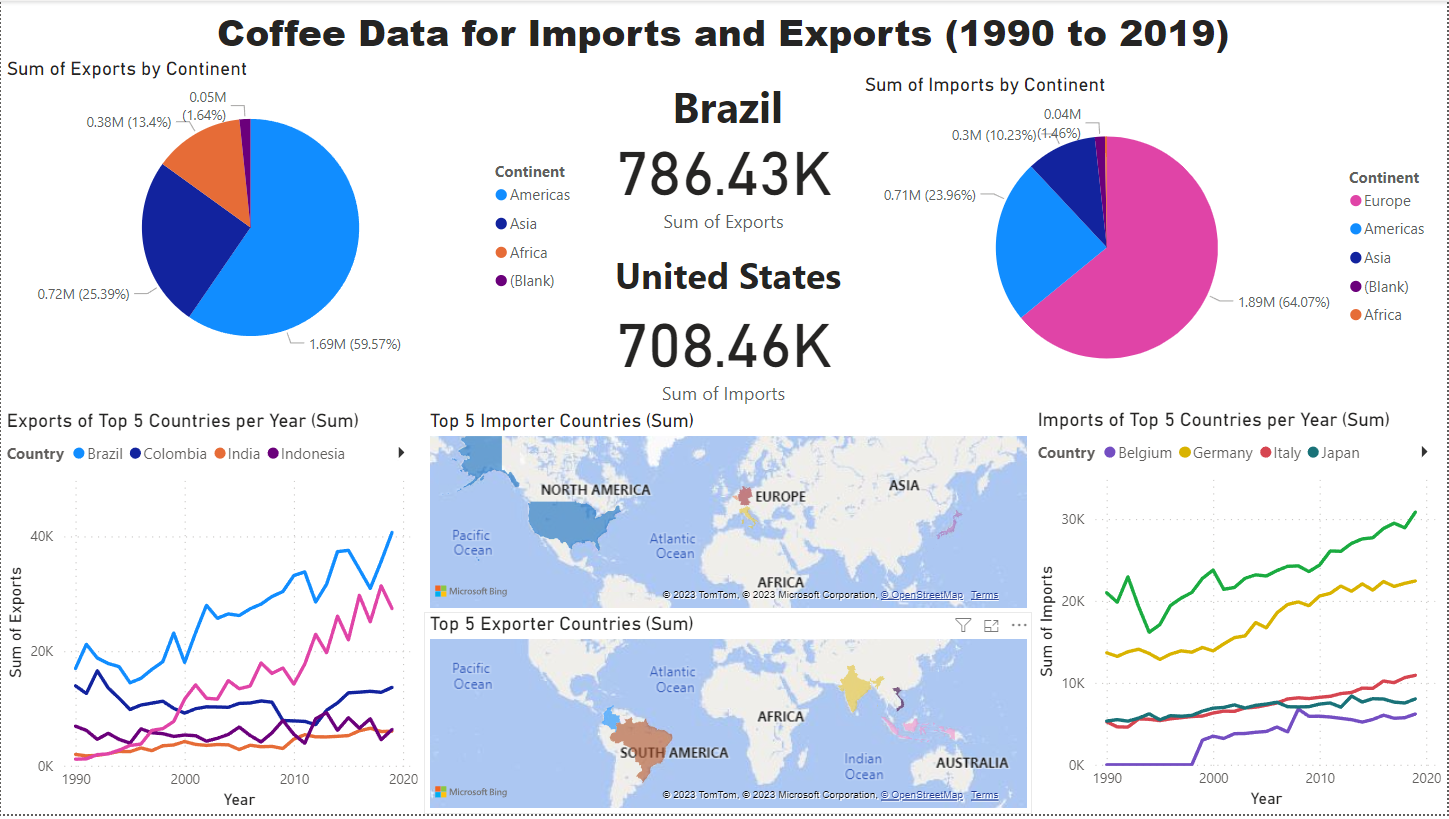

The page's visual inventory and layout, read from the dashboard file:
{"tool":"powerbi","page":{"name":"Coffee Data","canvas":[1280,720],"ordinal":0},"visuals":[{"type":"textbox","box":[9.4,0,1270.6,75.3],"z":0},{"type":"pieChart","fields":{"Y":["Sum(Exports & Imports Appended Query.Exports)"],"Category":["Continents_Sheet_Final_CSV.Continent"]},"box":[0,50,523.3,283.3],"z":1000},{"type":"pieChart","fields":{"Y":["Sum(Exports & Imports Appended Query.Imports)"],"Category":["Continents_Sheet_Final_CSV.Continent"]},"box":[760,63.3,520,290],"z":2000},{"type":"card","fields":{"Values":["Sum(Exports & Imports Appended Query.Exports)"]},"box":[519.5,75.7,240,161.1],"z":3000},{"type":"card","fields":{"Values":["Sum(Exports & Imports Appended Query.Imports)"]},"box":[519.5,236.8,240,145.1],"z":4000},{"type":"textbox","box":[574.9,62.9,137.6,64],"z":5000},{"type":"textbox","box":[523.7,215.5,241.1,59.7],"z":6000},{"type":"filledMap","title":"Top 5 Importer Countries (Sum)","fields":{"Category":["Exports & Imports Appended Query.Country"]},"box":[374.4,361.1,538.9,181.1],"z":7000},{"type":"filledMap","title":"Top 5 Exporter Countries (Sum)","fields":{"Category":["Exports & Imports Appended Query.Country"]},"box":[374.4,541.1,538.9,178.9],"z":8000},{"type":"lineChart","title":"Exports of Top 5 Countries per Year (Sum)","fields":{"Category":["Exports & Imports Appended Query.Year"],"Y":["Sum(Exports & Imports Appended Query.Exports)"],"Series":["Exports & Imports Appended Query.Country"]},"box":[0,361.1,374.4,358.9],"z":9000},{"type":"lineChart","title":"Imports of Top 5 Countries per Year (Sum)","fields":{"Category":["Exports & Imports Appended Query.Year"],"Y":["Sum(Exports & Imports Appended Query.Imports)"],"Series":["Exports & Imports Appended Query.Country"]},"box":[913.3,360,366.7,358.9],"z":10000}]}

Visuals, with their boxes in screenshot pixels (x1, y1, x2, y2), scaled from the page's 1280x720 canvas onto the 1449x819 screenshot:
textbox: box(11, 0, 1448, 86)
pieChart - Sum(Exports & Imports Appended Query.Exports) x Continents_Sheet_Final_CSV.Continent: box(0, 57, 592, 379)
pieChart - Sum(Exports & Imports Appended Query.Imports) x Continents_Sheet_Final_CSV.Continent: box(860, 72, 1448, 402)
card - Sum(Exports & Imports Appended Query.Exports): box(588, 86, 860, 269)
card - Sum(Exports & Imports Appended Query.Imports): box(588, 269, 860, 434)
textbox: box(651, 72, 807, 144)
textbox: box(593, 245, 866, 313)
"Top 5 Importer Countries (Sum)" filledMap: box(424, 411, 1034, 617)
"Top 5 Exporter Countries (Sum)" filledMap: box(424, 616, 1034, 818)
"Exports of Top 5 Countries per Year (Sum)" lineChart: box(0, 411, 424, 818)
"Imports of Top 5 Countries per Year (Sum)" lineChart: box(1034, 410, 1448, 818)
